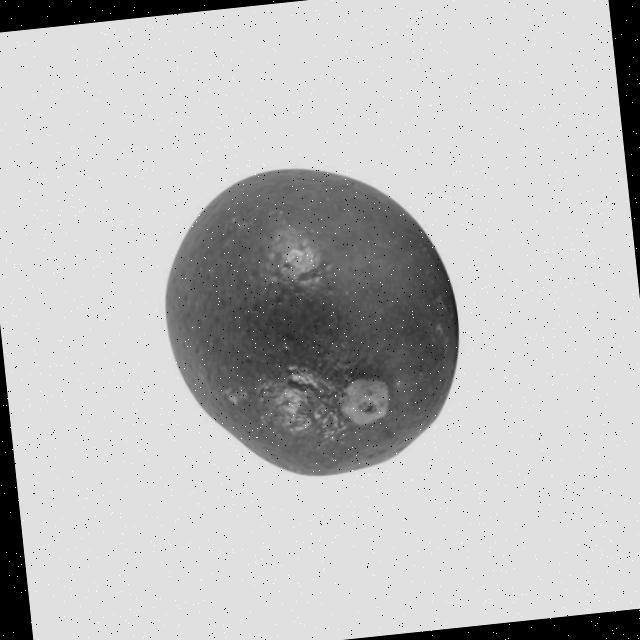Unripe: (148, 150, 474, 491)
